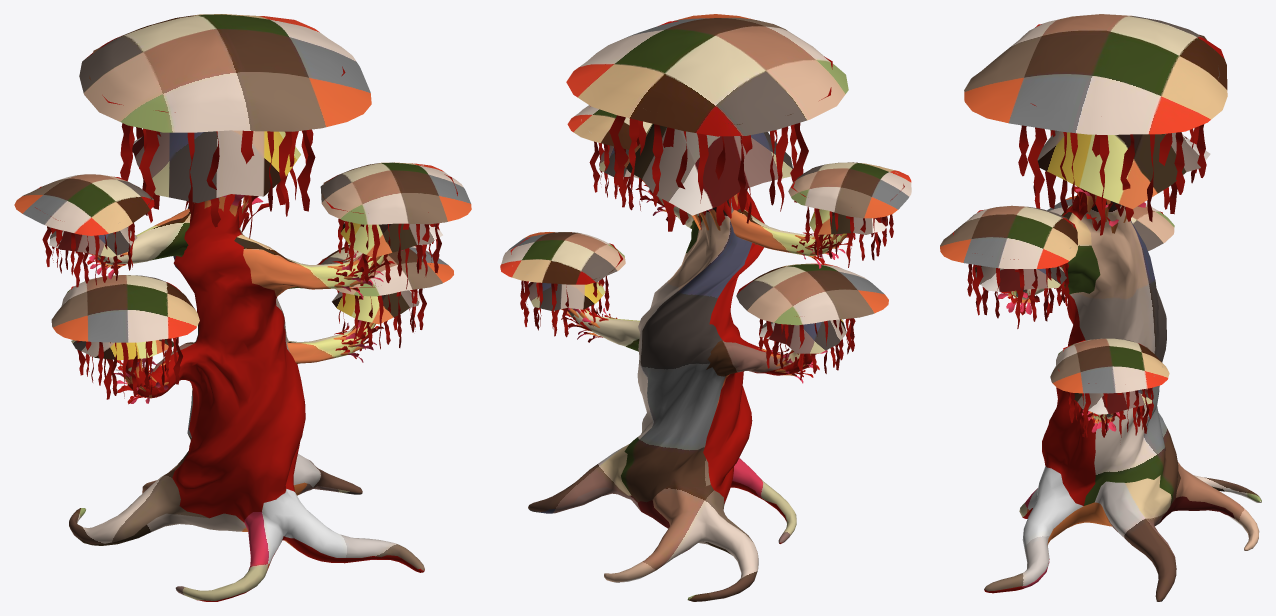
File: vasim_tree1_collider.glb
The picture shows the model from 3 angles, left to right: view 1: azimuth 30°, elevation 25°; view 2: azimuth 150°, elevation 25°; view 3: azimuth 270°, elevation 25°; orthographic projection. The views are drawn at different scales.
Visible parts, largest first — view 1: SM_Tree1; view 2: SM_Tree1; view 3: SM_Tree1.
Boxes of the visible parts, x1,y1,x2,y2 form: SM_Tree1: (14, 14, 471, 601); SM_Tree1: (500, 14, 911, 601); SM_Tree1: (940, 14, 1261, 601).
Size of what is drawn, in the model's own units: 4.84 by 6.04 by 3.49.
2 materials, 2 textured.
